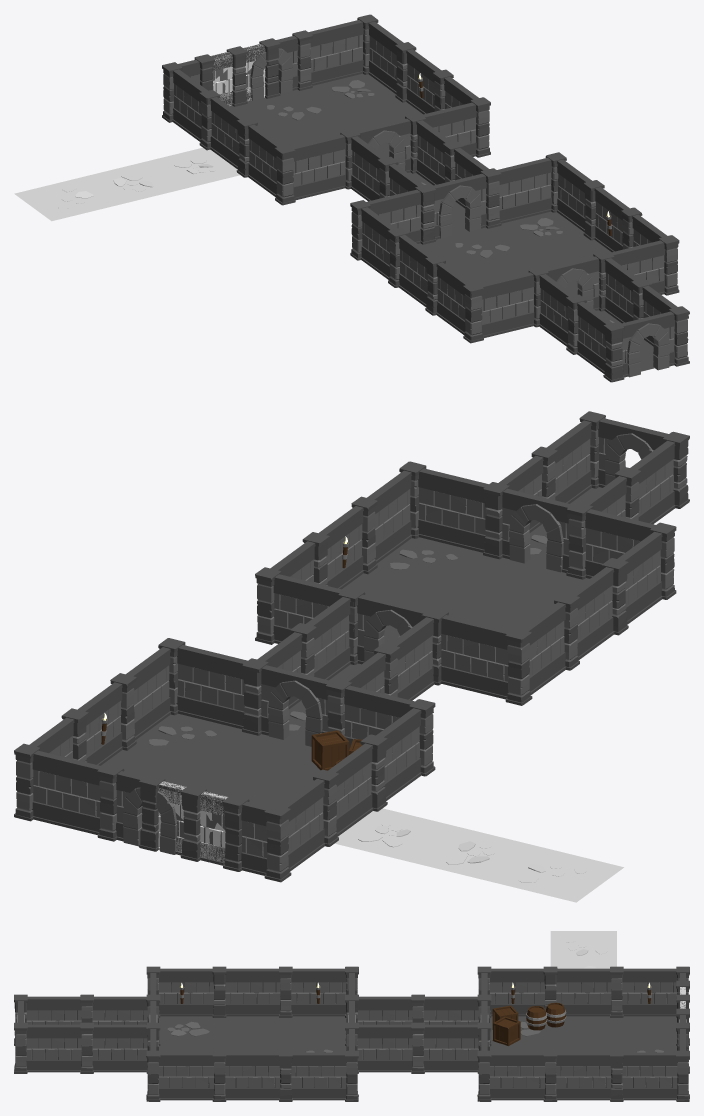
Rendered from dungeon.glb.
The picture shows the model from 3 angles, top to bottom: view 1: azimuth 30°, elevation 25°; view 2: azimuth 150°, elevation 25°; view 3: azimuth 270°, elevation 25°; orthographic projection. The views are drawn at different scales.
Visible parts, largest first — view 1: Cube.009, Cube.015, Cube.010, Cube.020, Doorway, Cube.028, Cube.011, Cube.021, Cube.008, Doorway.007, Cube.004, Doorway.004 (+34 smaller); view 2: Cube.023, Cube.009, Cube.004, Cube.008, Doorway.005, Doorway.001, Doorway, Cube.014, Cube.020, Plane.023, Cube.024, Cube.006 (+36 smaller); view 3: Cube.007, Cube.003, Cube.012, Cube.025, Cube.027, Cube.024, Cube.026, Cube.016, Cube.002, Cube.005, Cube.022, Cube.013 (+34 smaller).
Boxes of the visible parts, x1,y1,x2,y2 form: Cube.009: (292, 20, 363, 90); Cube.015: (480, 157, 552, 228); Cube.010: (291, 129, 360, 199); Cube.020: (479, 267, 548, 337); Doorway: (226, 36, 298, 106); Cube.028: (577, 301, 624, 382); Cube.011: (248, 124, 295, 205); Cube.021: (436, 262, 483, 343); Cube.008: (421, 97, 490, 157); Doorway.007: (620, 311, 675, 377); Cube.004: (610, 235, 679, 295); Doorway.004: (431, 173, 486, 239); Cube.023: (441, 615, 532, 705); Cube.009: (32, 750, 124, 841); Cube.004: (399, 461, 488, 552); Cube.008: (158, 638, 247, 728); Doorway.005: (483, 482, 571, 572); Doorway.001: (242, 658, 330, 746); Doorway: (115, 771, 206, 861); Cube.014: (200, 791, 291, 882); Cube.020: (566, 502, 655, 579); Plane.023: (448, 557, 574, 609); Cube.024: (569, 558, 628, 660); Cube.006: (328, 734, 387, 836); Cube.007: (490, 1050, 557, 1101); Cube.003: (159, 1050, 226, 1101); Cube.012: (556, 1050, 623, 1101); Cube.025: (225, 1050, 292, 1101); Cube.027: (14, 1022, 81, 1073); Cube.024: (212, 966, 280, 1017); Cube.026: (80, 1022, 147, 1073); Cube.016: (411, 1022, 478, 1073); Cube.002: (291, 1050, 358, 1101); Cube.005: (622, 1050, 689, 1101); Cube.022: (279, 966, 346, 1017); Cube.013: (610, 966, 677, 1017).
Size of the model in its own units: 24.42 by 3.07 by 40.84.
